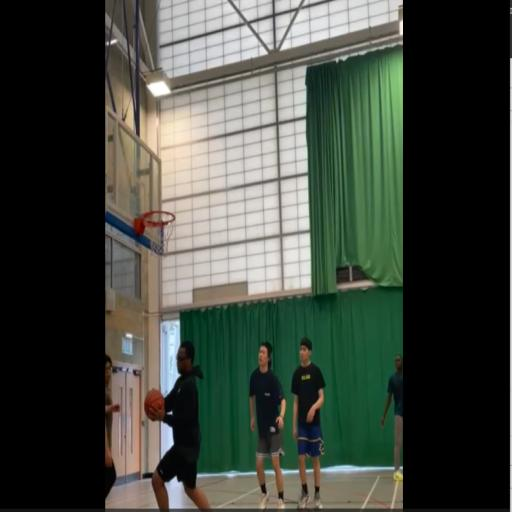hoops: (141, 206, 179, 262)
